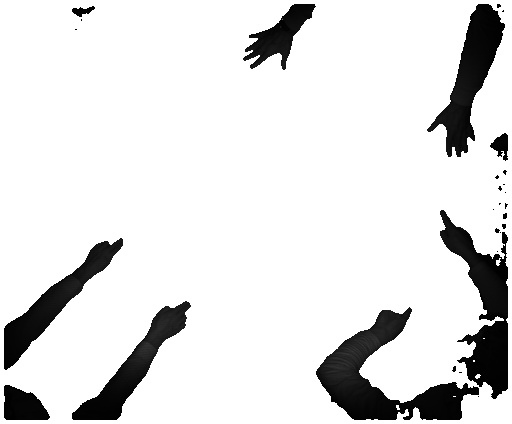hand: (424, 107, 477, 159), (240, 27, 292, 71), (440, 208, 477, 259), (86, 232, 127, 277), (151, 296, 191, 342), (376, 304, 415, 344)
